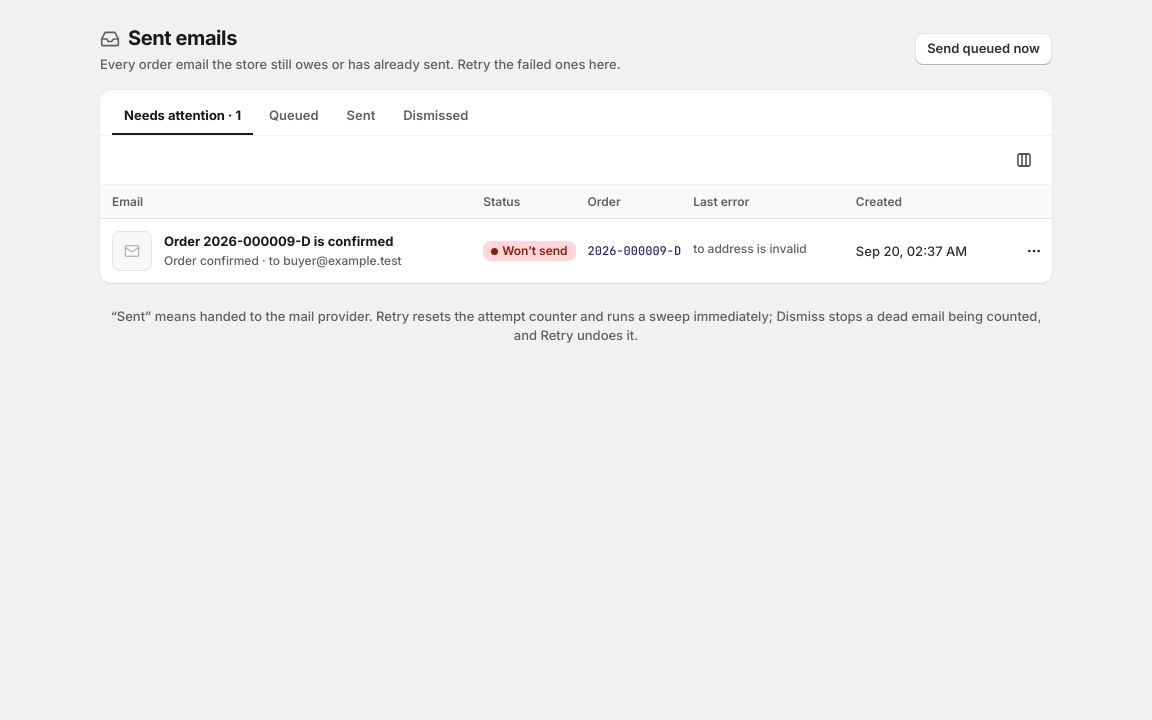
Test case: the two verbs › a retry that fails again reports the critical shape, not success
Expected: the text "Order 2026-000009-D is confirmed" is shown, top-left (164, 232), bottom-right (402, 251)
Click the button named "Actions for Order": point(1034, 251) top-left (1016, 233), bottom-right (1052, 269)
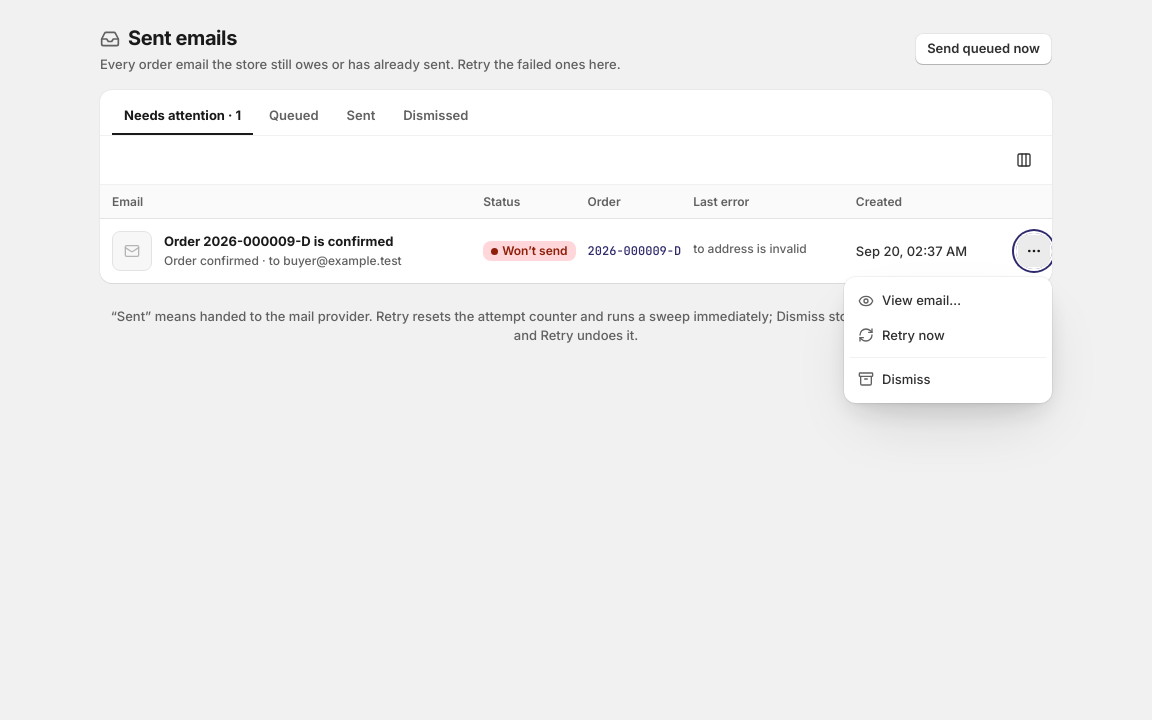
Click the menu item "Retry now": point(948, 335) top-left (850, 318), bottom-right (1046, 353)
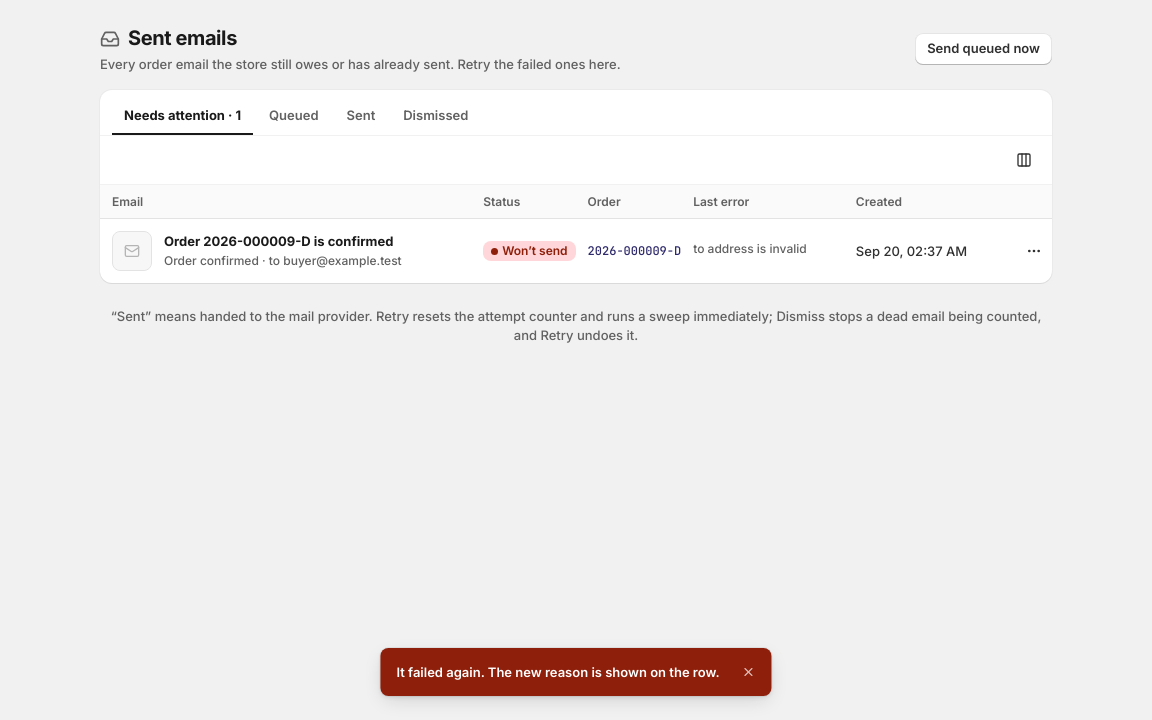
Now the text "It failed again. The new reason is shown on the row." is shown, box top-left (396, 663), bottom-right (720, 681)
